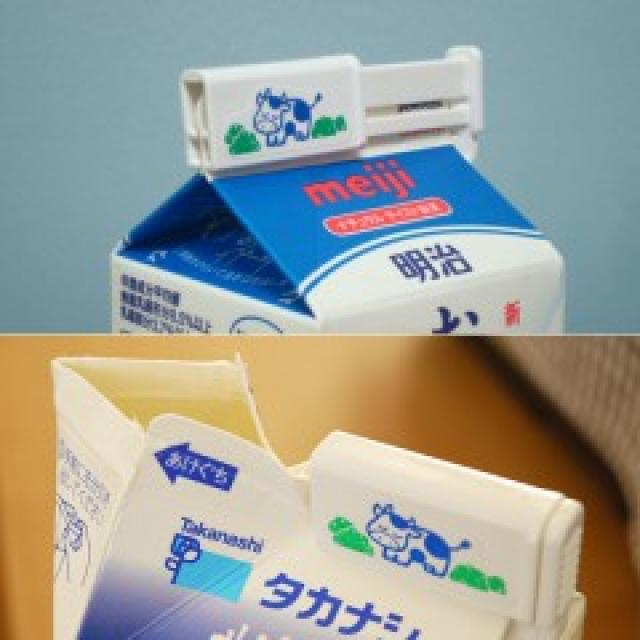Carton: (22, 356, 640, 640), (88, 38, 560, 336)
